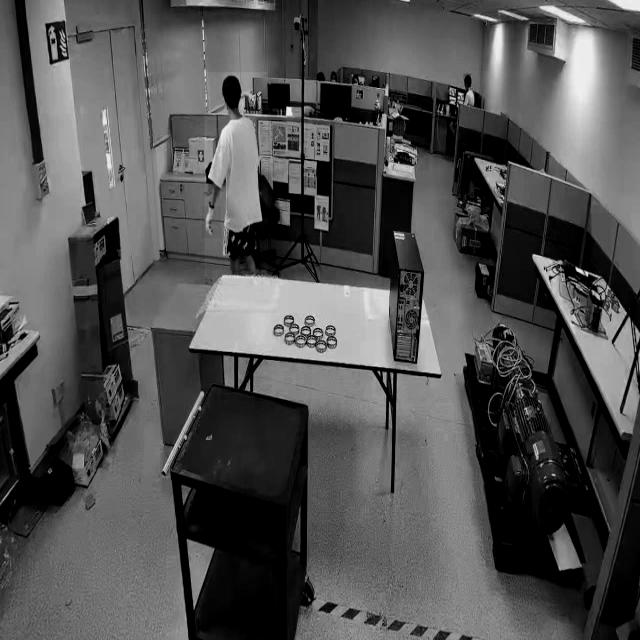hand_glove: (202, 206, 222, 239)
head_nohelmet: (222, 74, 240, 88), (464, 74, 472, 81)
person: (204, 72, 268, 279)
